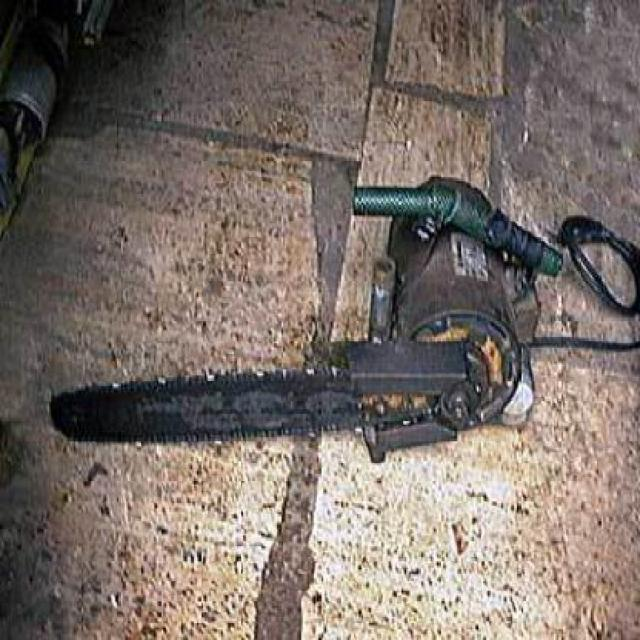Chainsaw: (46, 171, 560, 463)
